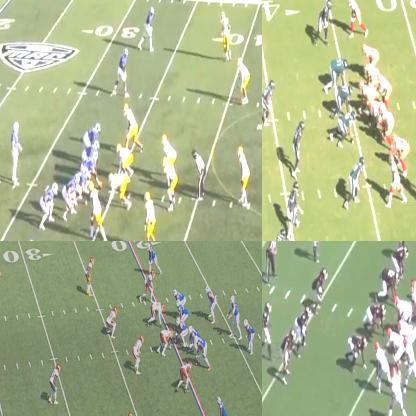CENTER: (88, 150, 104, 186), (393, 292, 411, 319), (359, 81, 369, 112), (174, 320, 186, 341)
DB: (239, 147, 252, 210), (288, 182, 300, 235), (239, 57, 252, 100), (263, 304, 274, 350), (221, 14, 231, 58), (50, 363, 60, 402), (314, 241, 325, 261), (273, 227, 287, 240)
LB: (143, 191, 159, 240), (165, 156, 178, 210), (298, 304, 311, 349), (262, 80, 274, 127), (284, 326, 294, 382), (293, 122, 303, 176), (315, 265, 326, 304), (106, 308, 119, 339), (85, 256, 95, 296), (133, 338, 143, 374), (164, 137, 177, 163)
QB: (11, 122, 19, 180), (378, 73, 392, 99), (231, 295, 239, 332), (412, 288, 415, 347)
SKILL: (392, 136, 414, 176), (347, 157, 364, 206), (374, 341, 389, 396), (388, 155, 404, 205), (316, 0, 333, 43), (403, 337, 415, 393), (392, 361, 404, 413), (116, 48, 128, 96), (347, 0, 362, 38), (42, 184, 56, 224), (145, 244, 159, 275), (244, 317, 254, 356), (146, 6, 154, 49), (215, 396, 232, 415), (208, 290, 216, 325)
